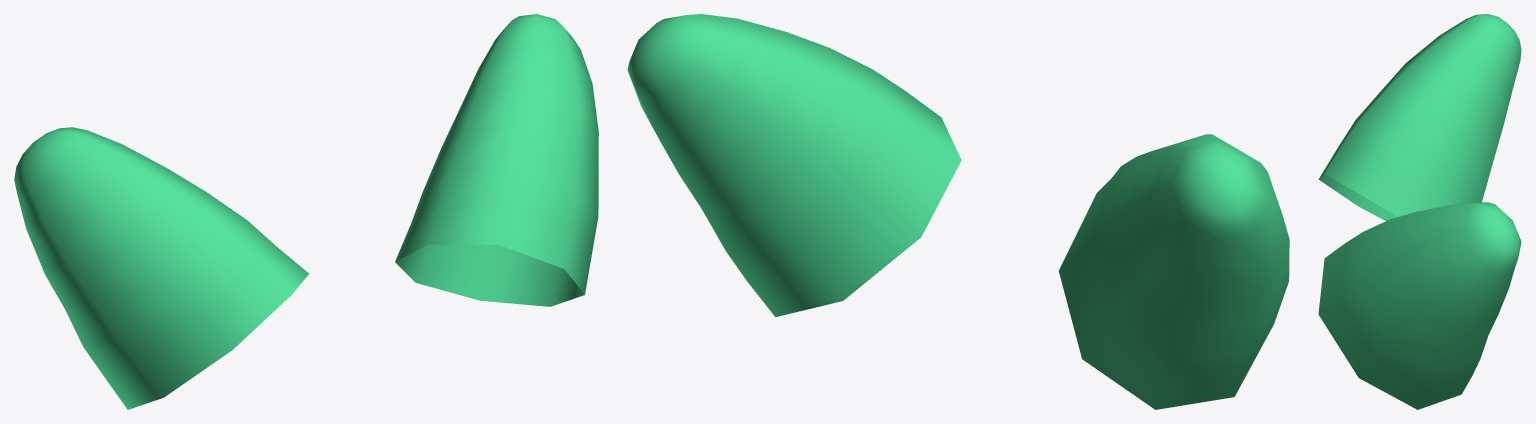
File: importerSkin17_ear.fbx
3 views of the same model, side by side, from view 1: azimuth 30°, elevation 25°; view 2: azimuth 150°, elevation 25°; view 3: azimuth 270°, elevation 25° (orthographic). The views are drawn at different scales.
Visible parts, largest first — view 1: importerSkin17_ear_geo; view 2: importerSkin17_ear_geo; view 3: importerSkin17_ear_geo.
Boxes of the visible parts, <box> form: importerSkin17_ear_geo: <box>14,14,598,409</box>; importerSkin17_ear_geo: <box>627,14,1289,409</box>; importerSkin17_ear_geo: <box>1318,14,1521,409</box>.
Size of the model in its own units: 2.26 by 1.01 by 0.8608.
Materials: 1 (1 with a texture image).
